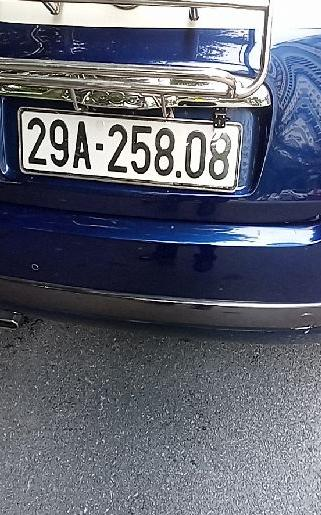Plate-iWeP: (21, 103, 239, 192)
